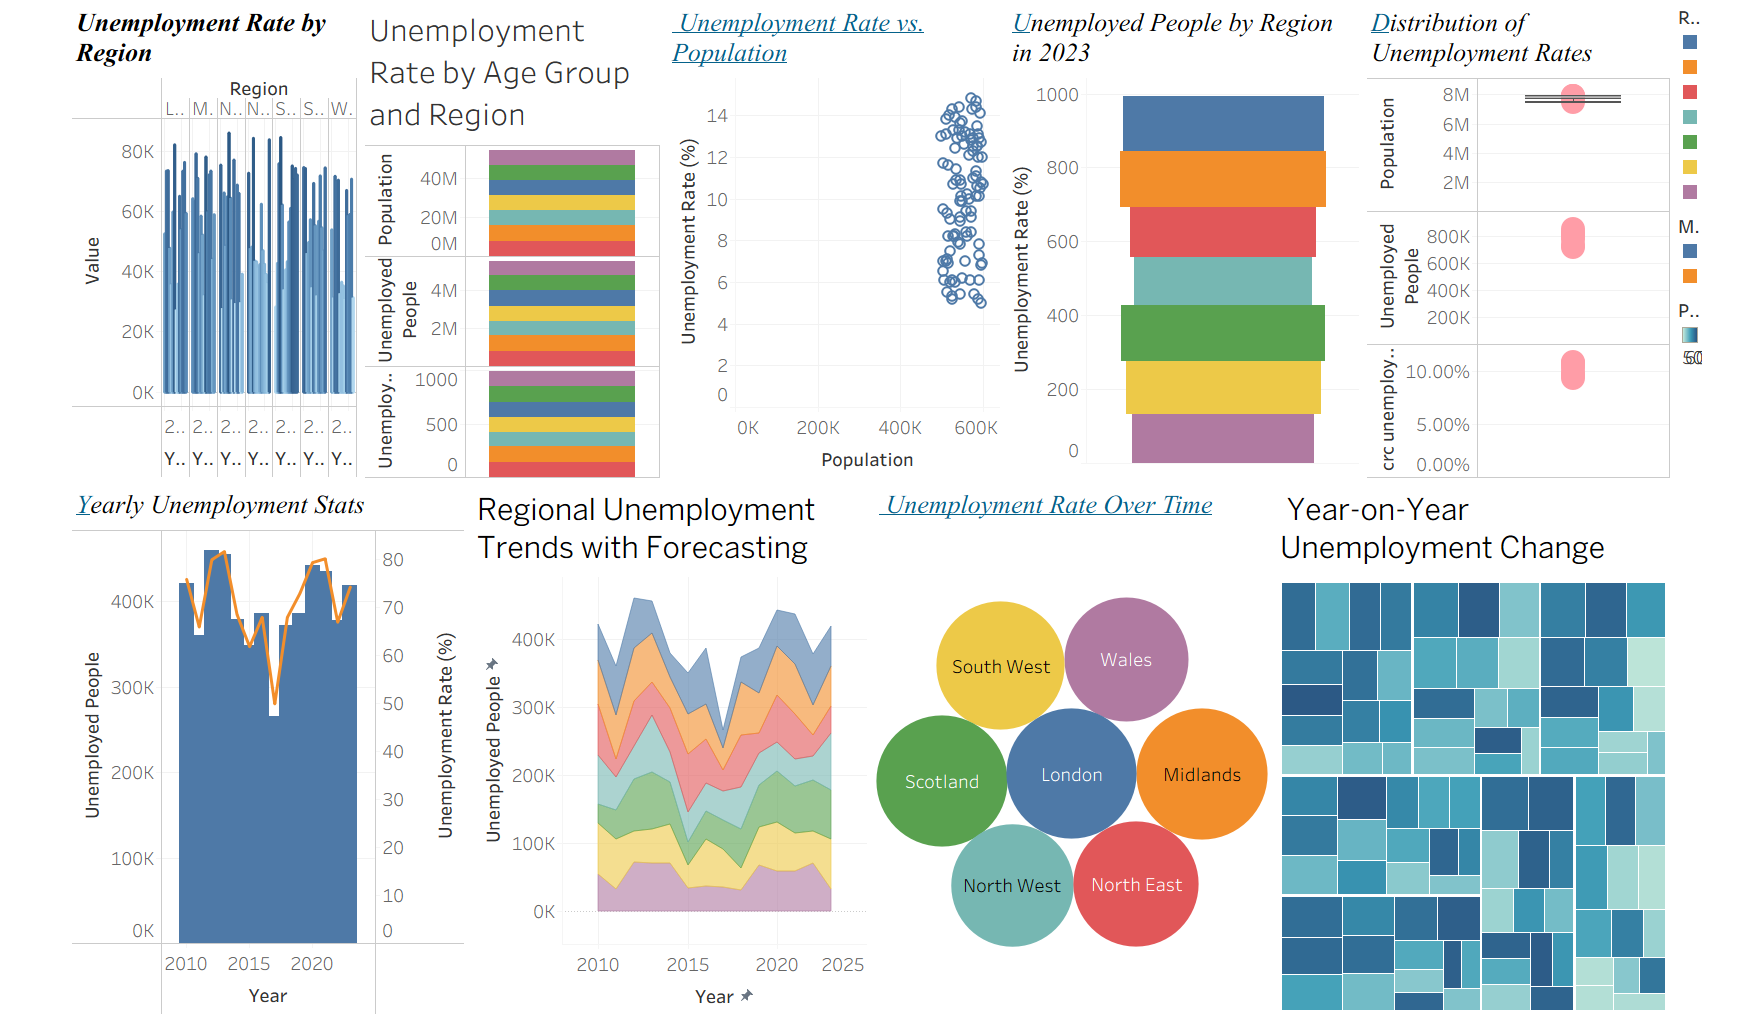

What the dashboard file says about the page in this screenshot:
{"tool":"tableau","page":{"name":"Dashboard","canvas":[1000,1000],"units":"permille","ordinal":0},"visuals":[{"type":"worksheet","title":"Unemployment Rate by Region","mark":"Automatic","cols":["Region","Year"],"box":[4.8,9.9,177.1,463.2]},{"type":"worksheet","title":"Unemployment Rate by Age Group and Region","mark":"Automatic","rows":["Population","Unemployed People","Unemployment Rate (%)"],"box":[181.9,9.9,183.3,463.2]},{"type":"worksheet","title":" Unemployment Rate vs. Population","mark":"Automatic","rows":["Unemployment Rate (%)"],"cols":["Population"],"box":[365.2,9.9,205.3,463.2]},{"type":"worksheet","title":"Unemployed People by Region in 2023","mark":"Automatic","rows":["Unemployment Rate (%)"],"box":[570.5,9.9,217.5,463.2]},{"type":"worksheet","title":"Distribution of Unemployment Rates","mark":"Circle","rows":["Population","Unemployed People","Calculation_1774418263623069696"],"box":[788.1,9.9,187.8,463.2]},{"type":"legend","title":"Unemployed People by Region in 2023","param":"[federated.1kx9t4l1gaq99c0zjtdvo1med1eh].[none:Region:nk]","box":[975.8,9.9,19.4,259]},{"type":"legend","title":"Yearly Unemployment Stats","param":"[federated.1kx9t4l1gaq99c0zjtdvo1med1eh].[:Measure Names]","box":[975.8,268.9,19.4,104.1]},{"type":"legend","title":"Unemployment Change","param":"[federated.1kx9t4l1gaq99c0zjtdvo1med1eh].[sum:Population:qk]","box":[975.8,373,19.4,100.4]},{"type":"worksheet","title":"Yearly Unemployment Stats","mark":"Polygon","rows":["Unemployed People","Unemployment Rate (%)"],"cols":["Year"],"box":[4.8,473.1,242.6,517]},{"type":"worksheet","title":"Regional Unemployment Trends with Forecasting","mark":"Area","rows":["Unemployed People"],"cols":["Year"],"box":[247.4,473.1,242.8,517]},{"type":"worksheet","title":" Unemployment Rate Over Time","mark":"Circle","box":[490.2,473.1,242.7,517]},{"type":"worksheet","title":"Unemployment Change","mark":"Automatic","box":[732.9,473.1,242.9,517]}]}

Visuals, with their boxes on the dashboard's canvas, which has no fixed pixel size, in thousandths of its width and height (x1, y1, x2, y2). These are canvas units, not pixel positions in the 1750x1026 screenshot, which may show the page scaled, cropped or inside an application window:
"Unemployment Rate by Region" worksheet: BBox(5, 10, 182, 473)
"Unemployment Rate by Age Group and Region" worksheet: BBox(182, 10, 365, 473)
" Unemployment Rate vs. Population" worksheet: BBox(365, 10, 570, 473)
"Unemployed People by Region in 2023" worksheet: BBox(570, 10, 788, 473)
"Distribution of Unemployment Rates" worksheet (Circle marks): BBox(788, 10, 976, 473)
"Unemployed People by Region in 2023" legend: BBox(976, 10, 995, 269)
"Yearly Unemployment Stats" legend: BBox(976, 269, 995, 373)
"Unemployment Change" legend: BBox(976, 373, 995, 473)
"Yearly Unemployment Stats" worksheet (Polygon marks): BBox(5, 473, 247, 990)
"Regional Unemployment Trends with Forecasting" worksheet (Area marks): BBox(247, 473, 490, 990)
" Unemployment Rate Over Time" worksheet (Circle marks): BBox(490, 473, 733, 990)
"Unemployment Change" worksheet: BBox(733, 473, 976, 990)
